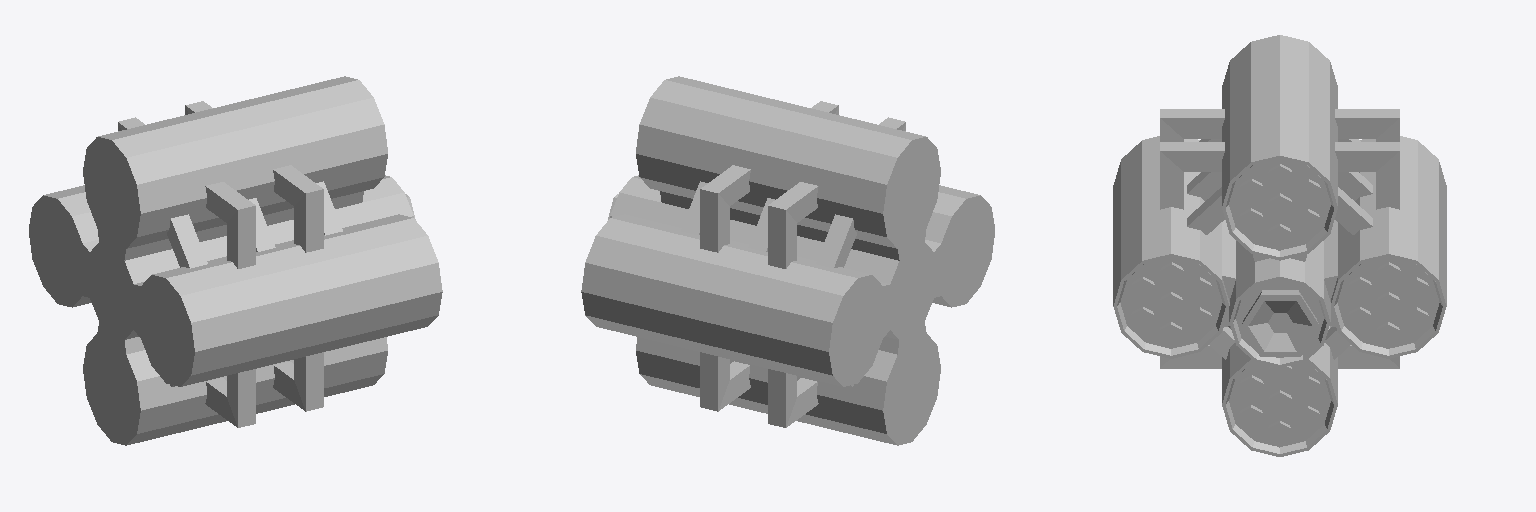
The model's file is Veryfast_Engine.obj.
The picture shows the model from 3 angles: view 1: azimuth 30°, elevation 25°; view 2: azimuth 150°, elevation 25°; view 3: azimuth 270°, elevation 25°; orthographic projection.
Parts seen in each view (by area): view 1: Cylinder.002; view 2: Cylinder.002; view 3: Cylinder.002.
Part boxes in pixels (x1,y1,x2,y2): Cylinder.002: (29,76,442,445); Cylinder.002: (581,76,994,445); Cylinder.002: (1113,35,1446,456).
Size of the model in its own units: 2.06 by 2.06 by 2.06.